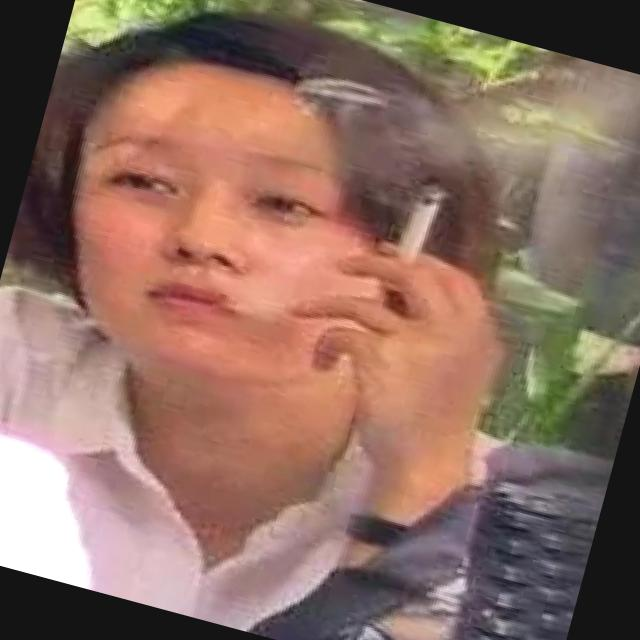cigarette: (368, 158, 454, 301)
